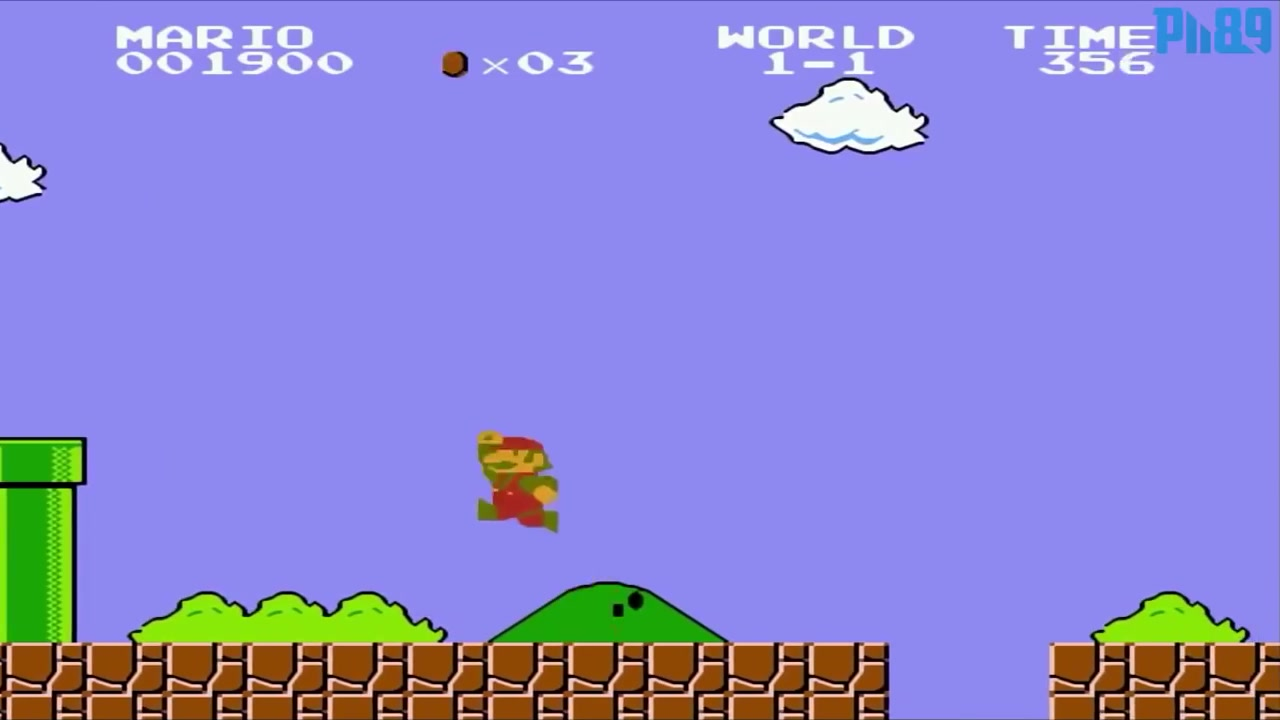mario: (468, 421, 570, 534)
